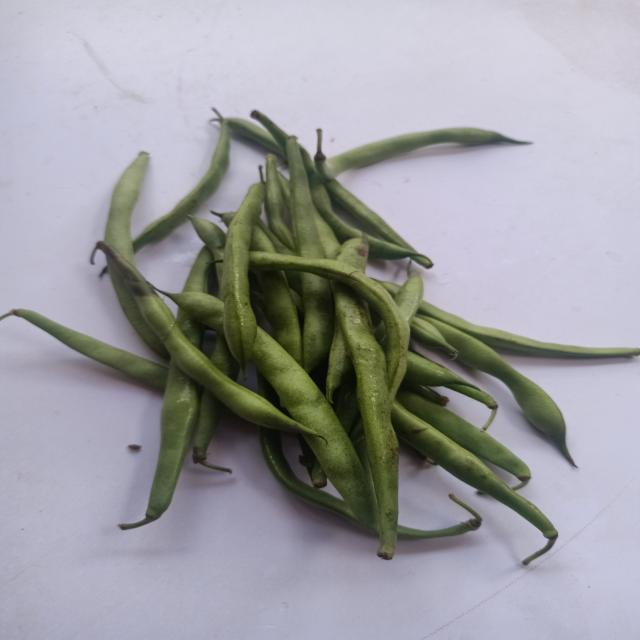Beans: (95, 241, 318, 436), (250, 328, 376, 531), (391, 402, 558, 550), (420, 316, 576, 467), (249, 251, 410, 395), (332, 282, 399, 560), (131, 118, 229, 253), (324, 127, 529, 179), (220, 182, 265, 374), (286, 135, 324, 258), (300, 273, 334, 370), (166, 292, 223, 332), (336, 239, 367, 274)
